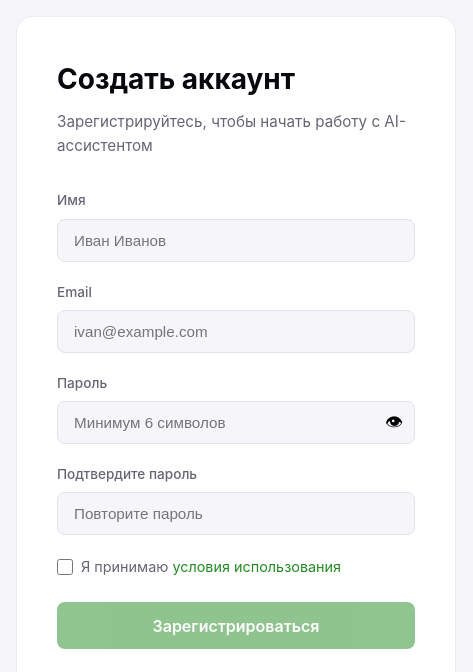
Scenario: RegisterView › submit enabled with valid form
The image size is (473, 672).
Type "Test User" into the field with id "name" at (236, 240), box [57,219,415,262]
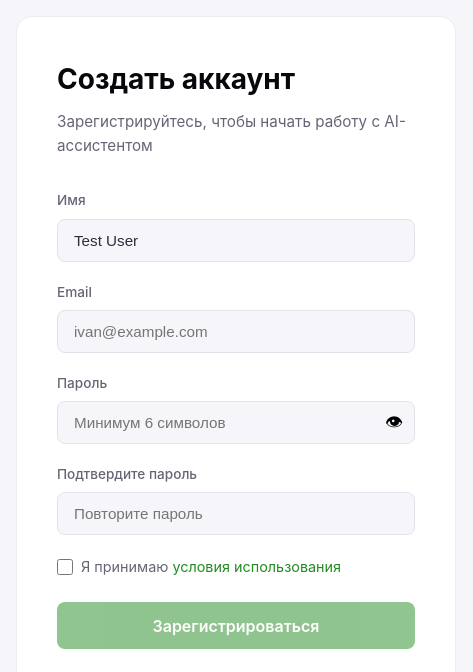
Type "test@test.com" into the field with id "email" at (236, 331), box [57,310,415,353]
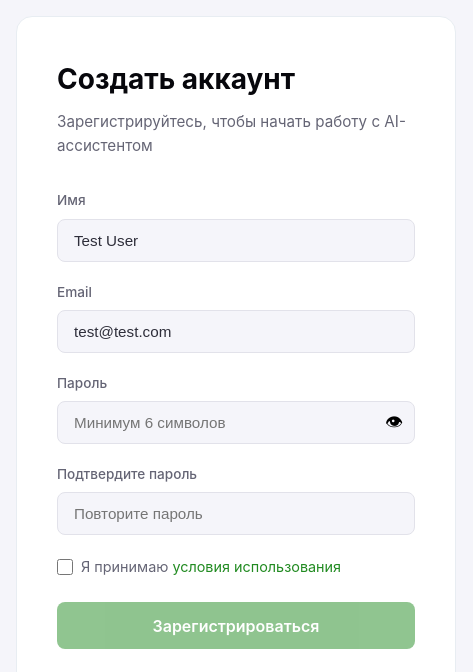
Type "123456" into the password field labelled "Пароль" at (236, 422), box [57,401,415,444]
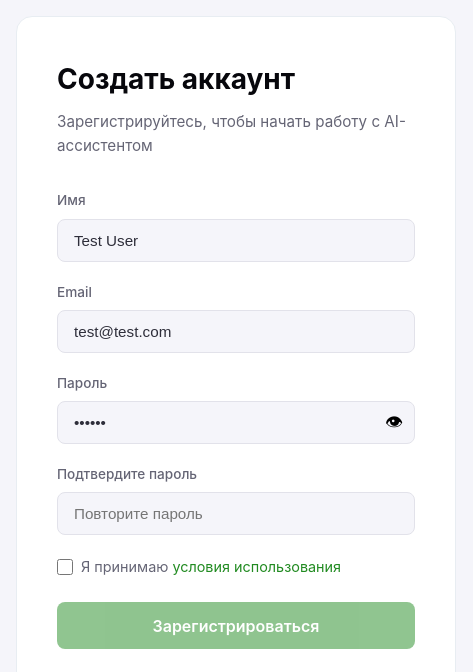
Type "123456" into the password field with id "confirm" at (236, 514), box [57,492,415,535]
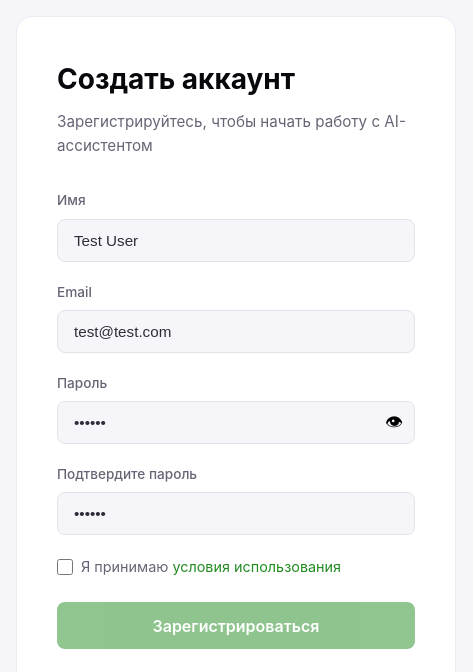
Click the checkbox labelled "Я принимаю условия использования" at (65, 566), box [57,558,73,574]
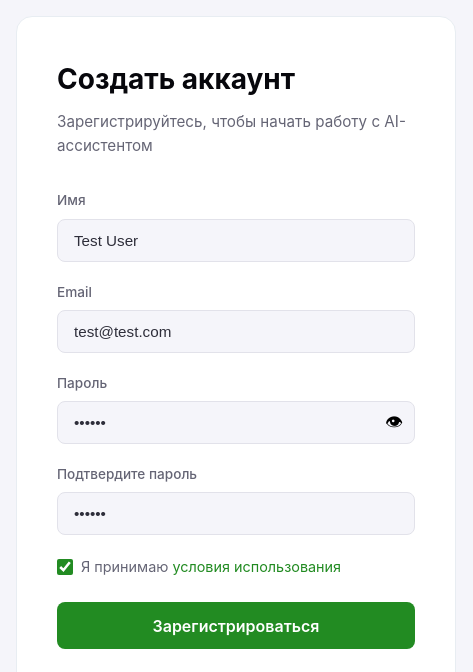
expect the submit button is enabled: met, box [57,602,415,649]
